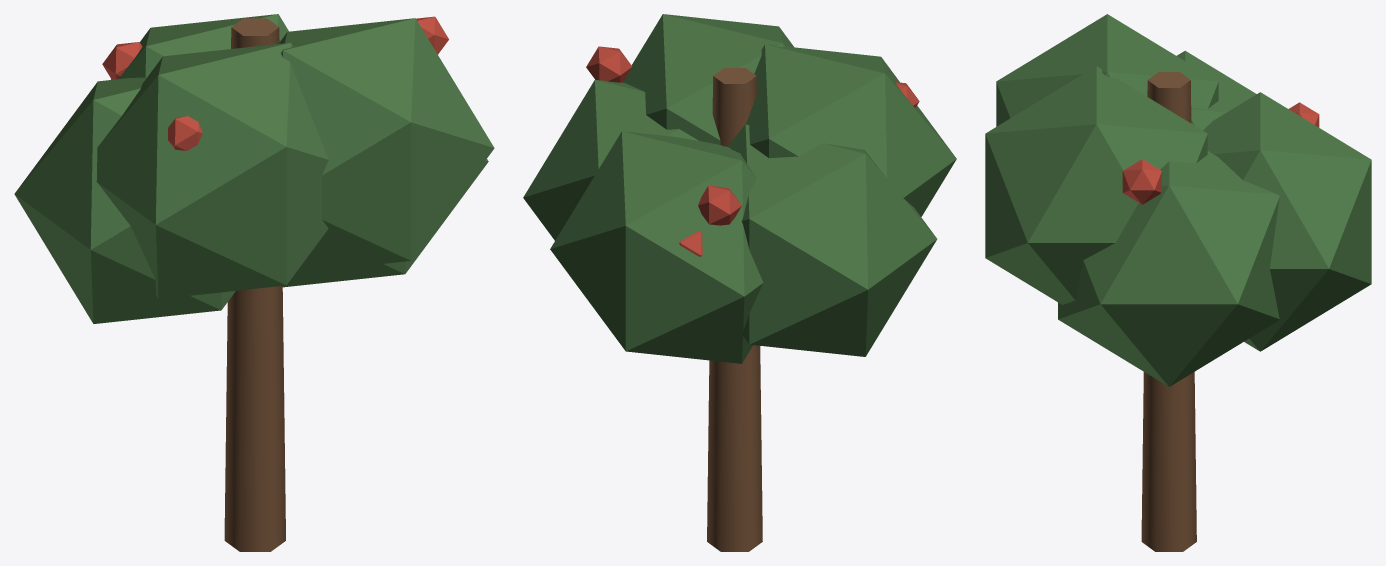
The model's file is crop-apple-tree-stage-4-fruiting.glb.
3 views of the same model, side by side, from view 1: azimuth 30°, elevation 25°; view 2: azimuth 150°, elevation 25°; view 3: azimuth 270°, elevation 25° (orthographic). The views are drawn at different scales.
Visible parts, largest first — view 1: crop-apple-tree-stage-4-fruiting-beach-foliage, crop-apple-tree-stage-4-fruiting-beach-trunk, crop-apple-tree-stage-4-fruiting-beach-fruit; view 2: crop-apple-tree-stage-4-fruiting-beach-foliage, crop-apple-tree-stage-4-fruiting-beach-trunk, crop-apple-tree-stage-4-fruiting-beach-fruit; view 3: crop-apple-tree-stage-4-fruiting-beach-foliage, crop-apple-tree-stage-4-fruiting-beach-trunk, crop-apple-tree-stage-4-fruiting-beach-fruit.
Part boxes in pixels (x1,y1,x2,y2): crop-apple-tree-stage-4-fruiting-beach-foliage: (14,14,494,323); crop-apple-tree-stage-4-fruiting-beach-trunk: (224,18,285,551); crop-apple-tree-stage-4-fruiting-beach-fruit: (102,16,448,150); crop-apple-tree-stage-4-fruiting-beach-foliage: (523,14,956,363); crop-apple-tree-stage-4-fruiting-beach-trunk: (707,68,762,551); crop-apple-tree-stage-4-fruiting-beach-fruit: (586,46,919,256); crop-apple-tree-stage-4-fruiting-beach-foliage: (985,14,1371,386); crop-apple-tree-stage-4-fruiting-beach-trunk: (1141,72,1196,551); crop-apple-tree-stage-4-fruiting-beach-fruit: (1122,102,1319,204).
Size of the model in its own units: 2.1 by 2.7 by 2.01.
